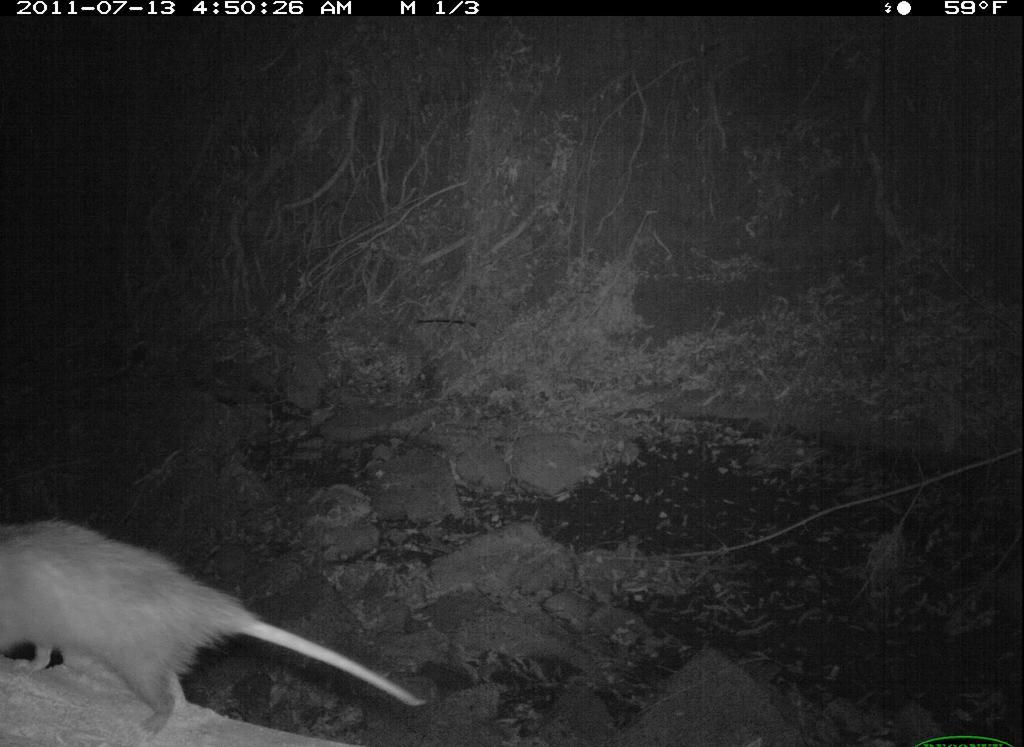opossum: (1, 521, 431, 728)
